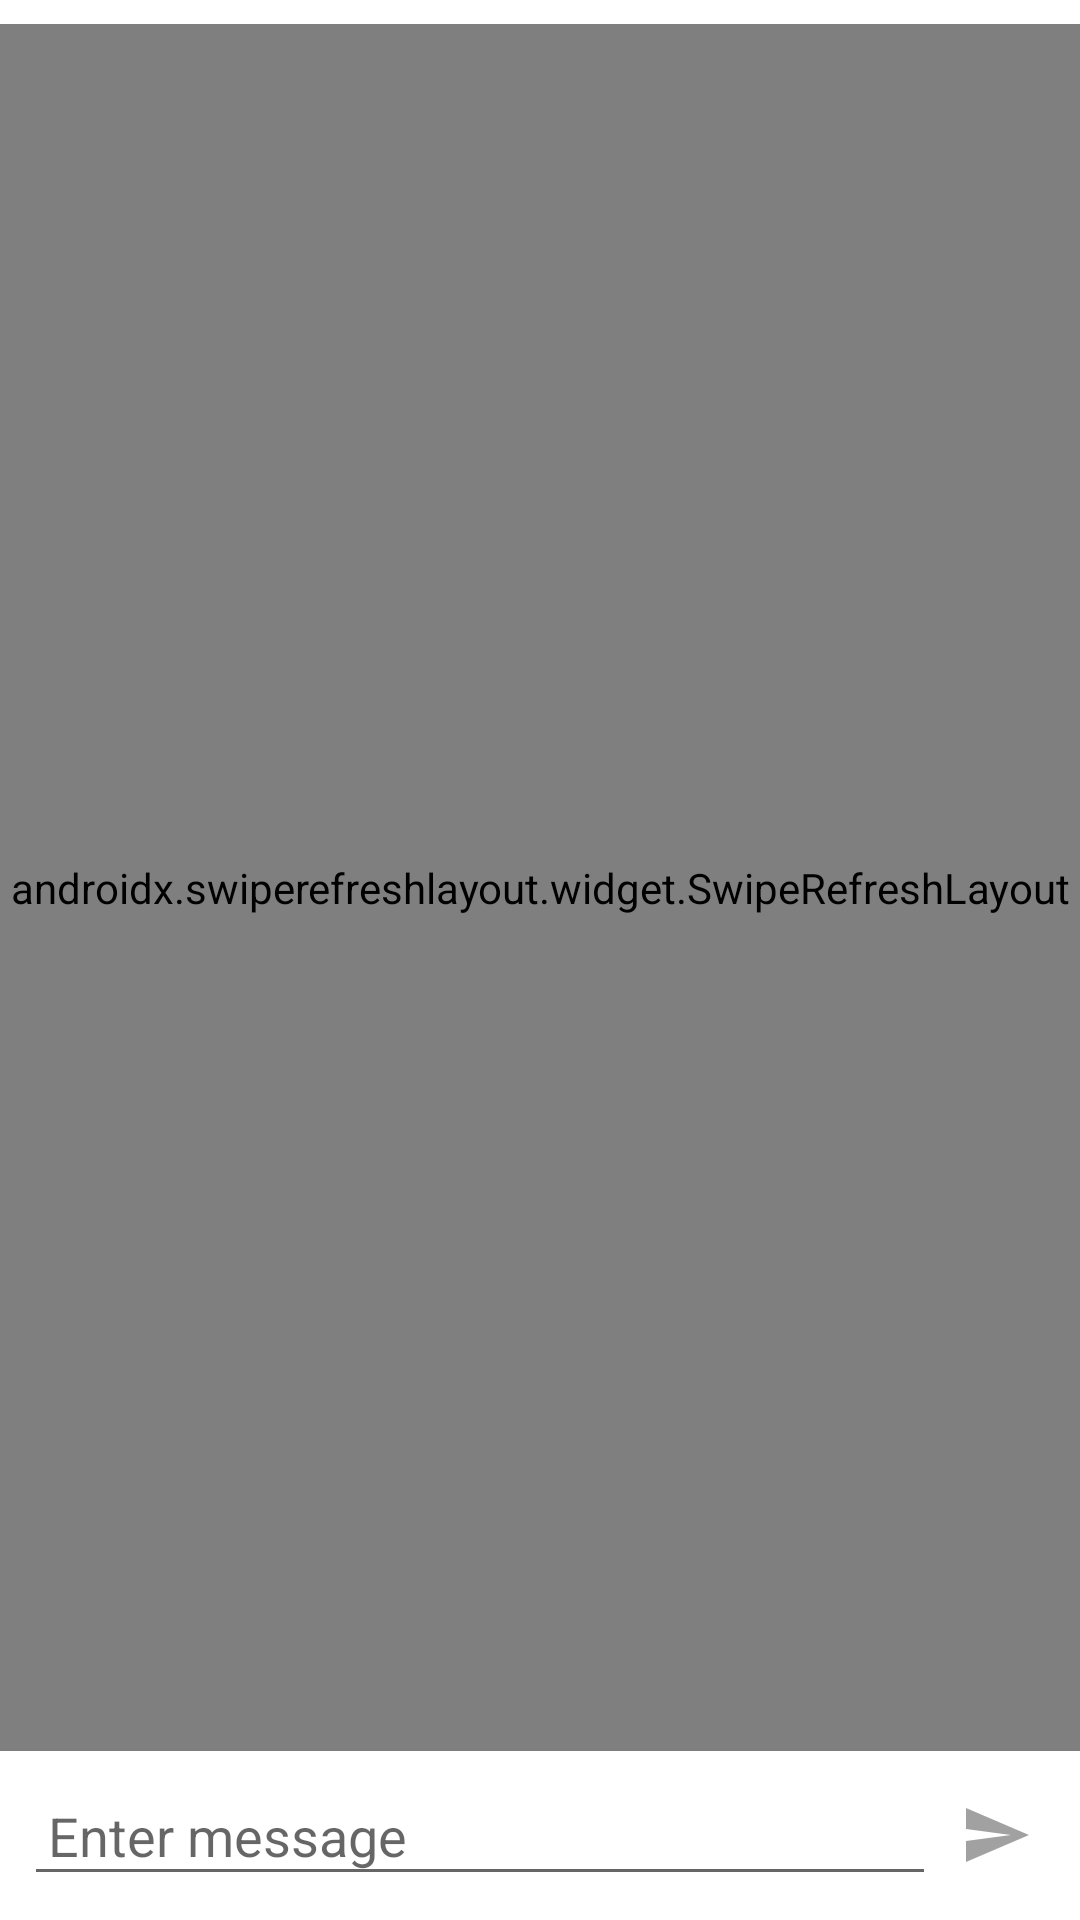

Where to tap for icons on this 1080px x 1920px app screen, as (x=x, y=y):
send: (x=997, y=1835)
